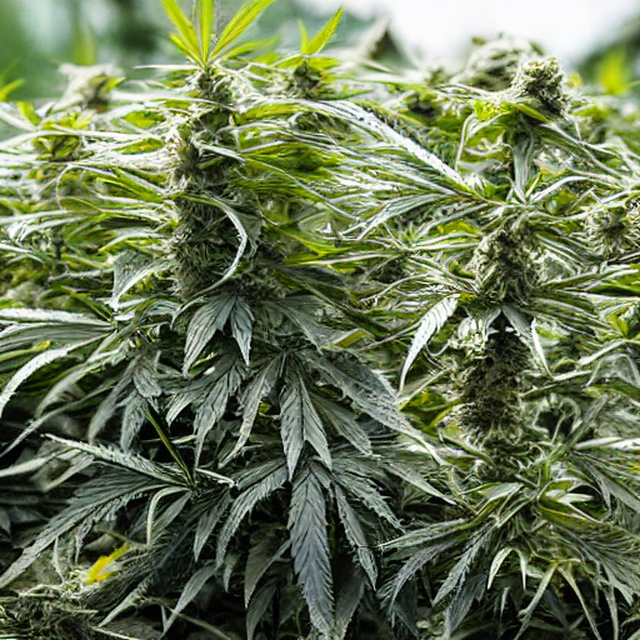Marijuana Plant: (0, 0, 640, 530), (451, 511, 608, 639)
